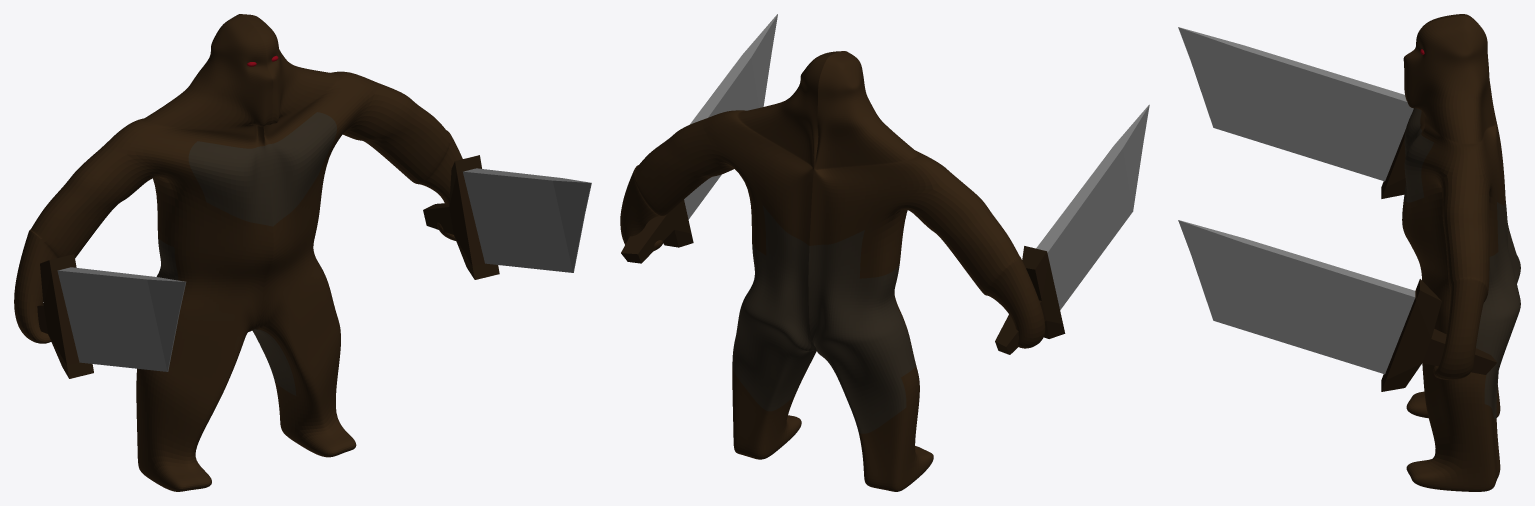
The model's file is Boss Monkey 1.fbx.
3 renders of one model, left to right at view 1: azimuth 30°, elevation 25°; view 2: azimuth 150°, elevation 25°; view 3: azimuth 270°, elevation 25°, orthographic. The views are drawn at different scales.
Visible parts, largest first — view 1: Cube, Cube.001; view 2: Cube, Cube.001; view 3: Cube.001, Cube.
Part boxes in pixels (x1=…): Cube: x1=14, y1=14, x2=462, y2=491; Cube.001: x1=37, y1=155, x2=591, y2=378; Cube: x1=620, y1=51, x2=1045, y2=491; Cube.001: x1=621, y1=14, x2=1149, y2=354; Cube.001: x1=1178, y1=27, x2=1497, y2=391; Cube: x1=1402, y1=14, x2=1520, y2=491.
Size of the model in its own units: 916 by 855 by 611.
